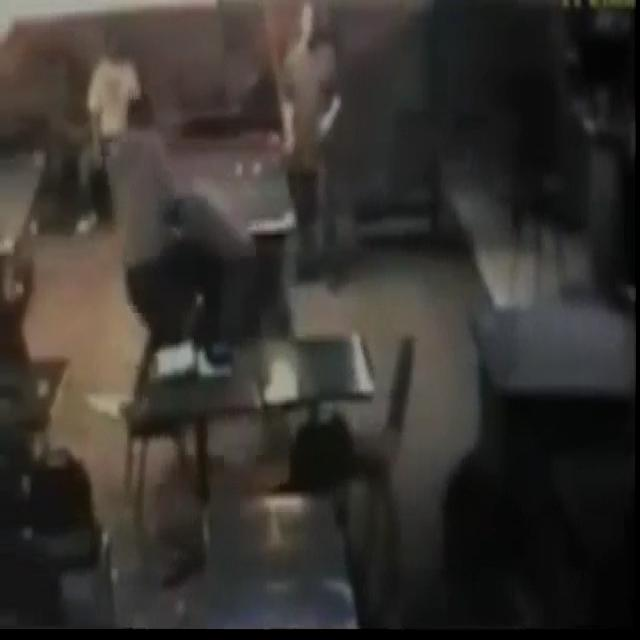fight: (104, 85, 256, 375)
